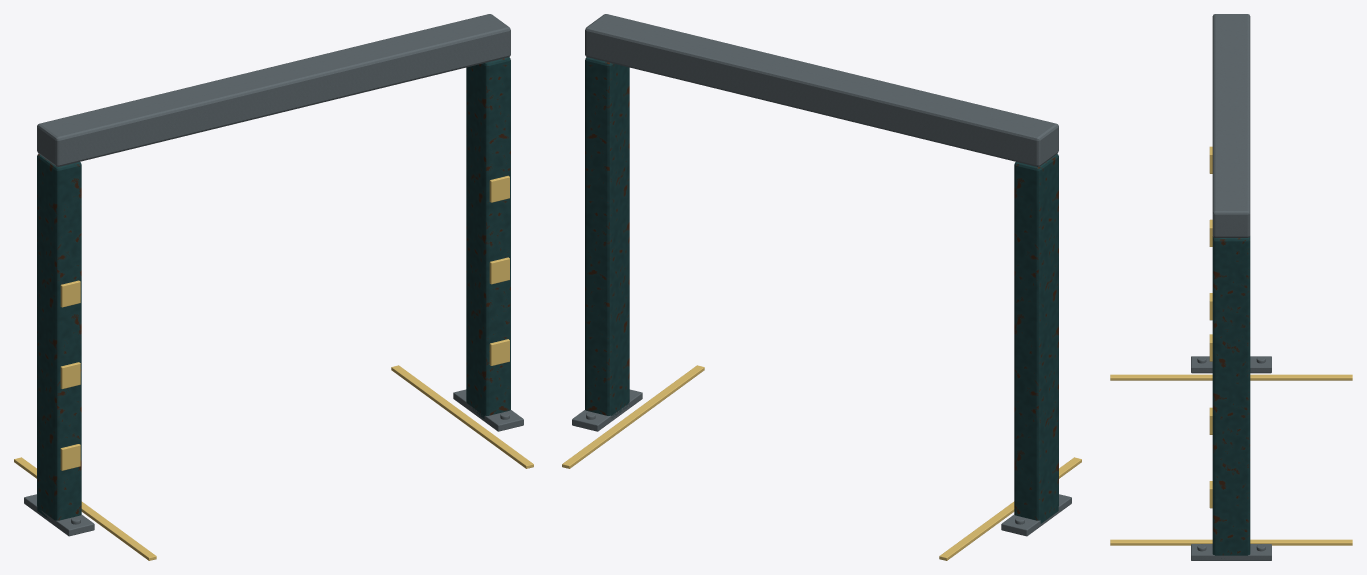
The model's file is IslandHandoffGate.fbx.
The picture shows the model from 3 angles, left to right: view 1: azimuth 30°, elevation 25°; view 2: azimuth 150°, elevation 25°; view 3: azimuth 270°, elevation 25°; orthographic projection. The views are drawn at different scales.
Visible parts, largest first — view 1: IslandOxide_Surface.003__UnityExport, IslandMetal_Surface.003__UnityExport, IslandSafety_Surface.003__UnityExport; view 2: IslandOxide_Surface.003__UnityExport, IslandMetal_Surface.003__UnityExport, IslandSafety_Surface.003__UnityExport; view 3: IslandOxide_Surface.003__UnityExport, IslandMetal_Surface.003__UnityExport, IslandSafety_Surface.003__UnityExport.
Boxes of the visible parts, x1,y1,x2,y2 form: IslandOxide_Surface.003__UnityExport: (37, 57, 510, 520); IslandMetal_Surface.003__UnityExport: (24, 14, 523, 536); IslandSafety_Surface.003__UnityExport: (14, 175, 533, 560); IslandOxide_Surface.003__UnityExport: (585, 57, 1058, 523); IslandMetal_Surface.003__UnityExport: (572, 14, 1071, 536); IslandSafety_Surface.003__UnityExport: (562, 365, 1081, 560); IslandOxide_Surface.003__UnityExport: (1212, 236, 1250, 558); IslandMetal_Surface.003__UnityExport: (1191, 14, 1271, 560); IslandSafety_Surface.003__UnityExport: (1110, 146, 1352, 545).
Bounding box in the file's own units: 3.5 × 2.86 × 1.8.
